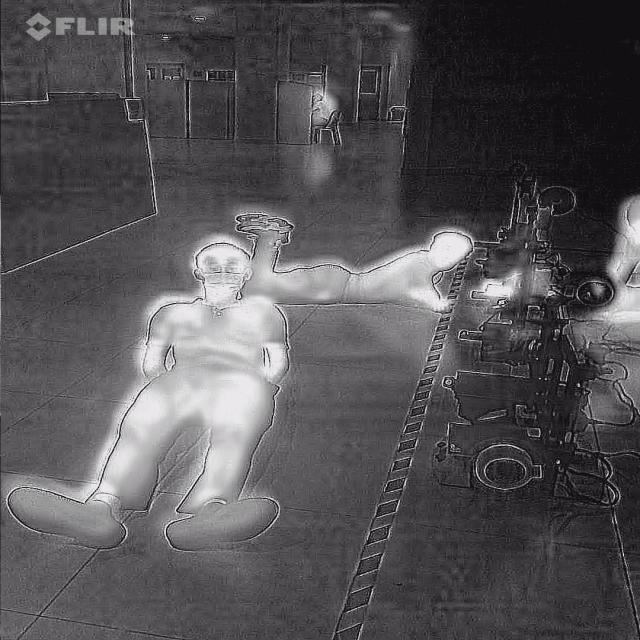Victim: (0, 237, 297, 552), (225, 200, 475, 318)
